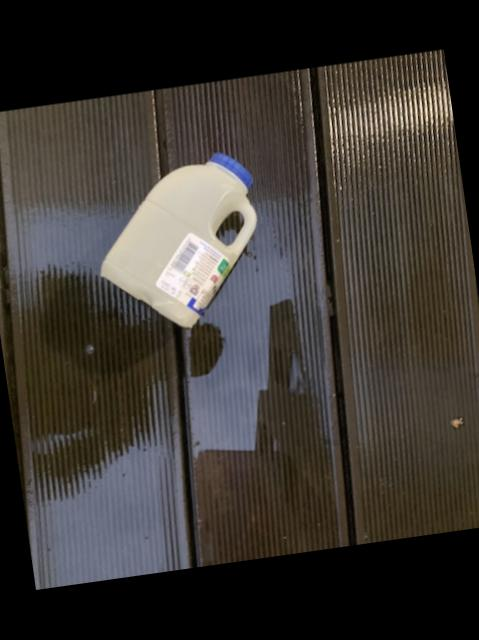plastic: (102, 155, 257, 329)
